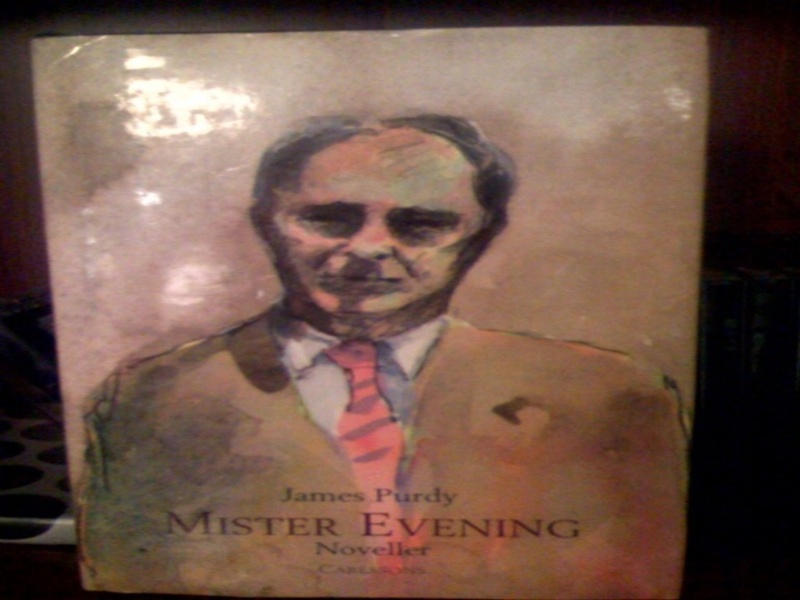book: (26, 13, 715, 600)
